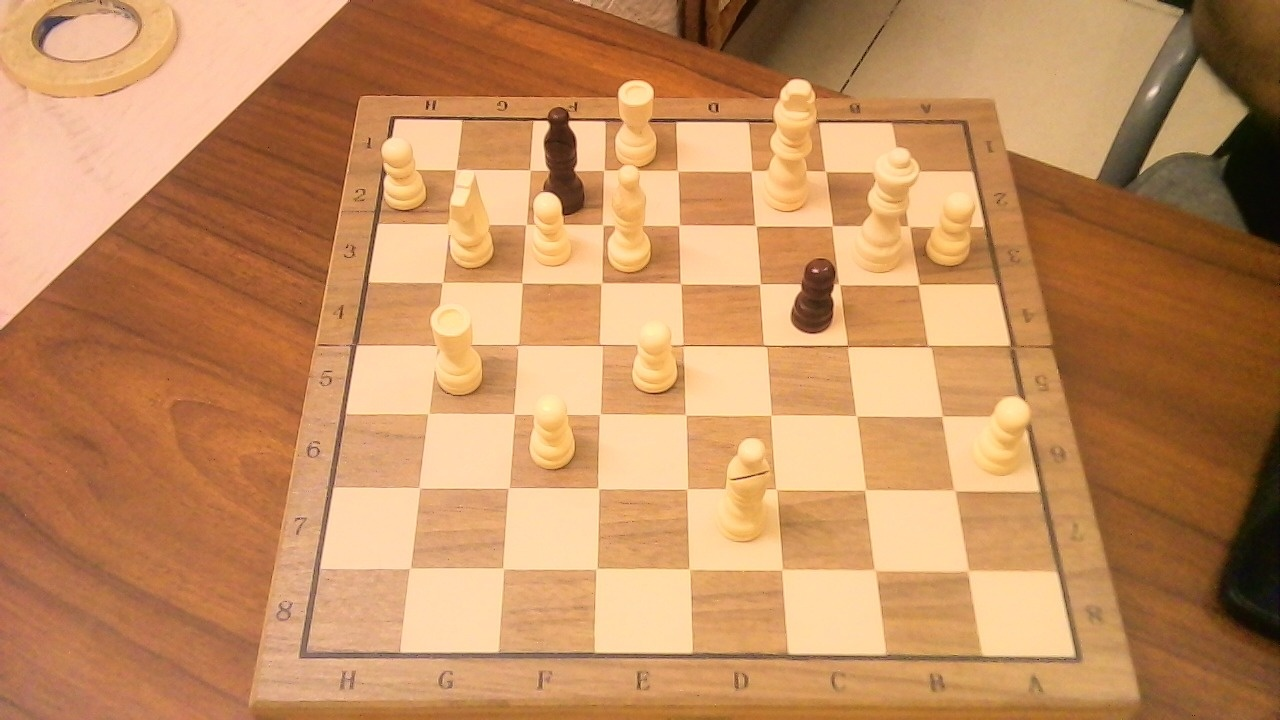B: (705, 426, 779, 547), (604, 153, 662, 277)
K: (757, 68, 825, 217)
N: (440, 156, 501, 274)
P: (965, 386, 1039, 479), (520, 384, 583, 474), (920, 182, 984, 269), (624, 310, 682, 398), (377, 128, 433, 213), (526, 182, 579, 271), (608, 158, 649, 225)
Q: (868, 137, 925, 276)
R: (426, 292, 488, 400), (608, 69, 665, 169)
b: (532, 93, 596, 221)
p: (785, 247, 846, 338)
